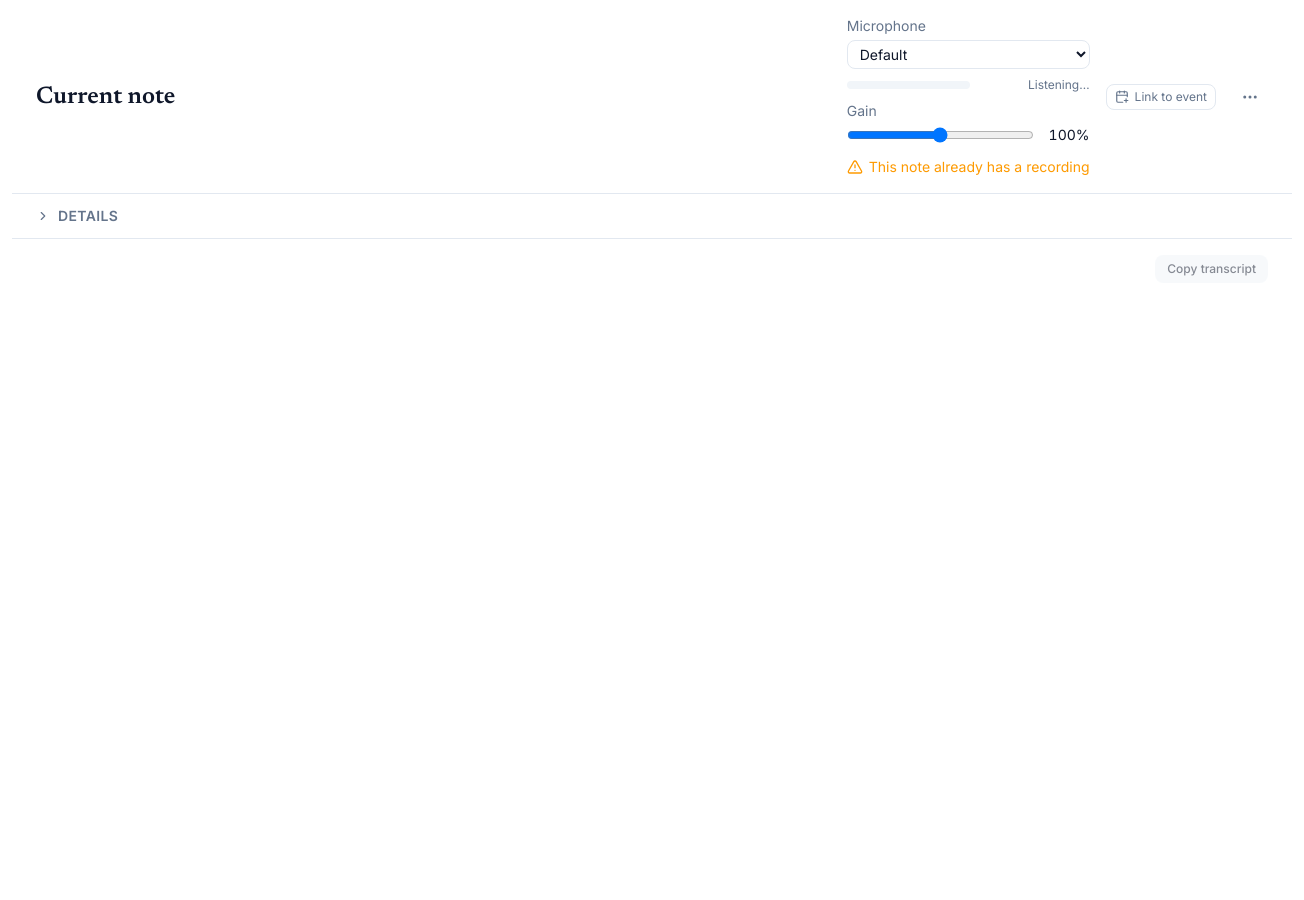
Test case: NoteScreen details disclosure › opening Details reveals all four panels
Click the button "Details".
click(88, 216)  # box 12,194 -> 1292,238
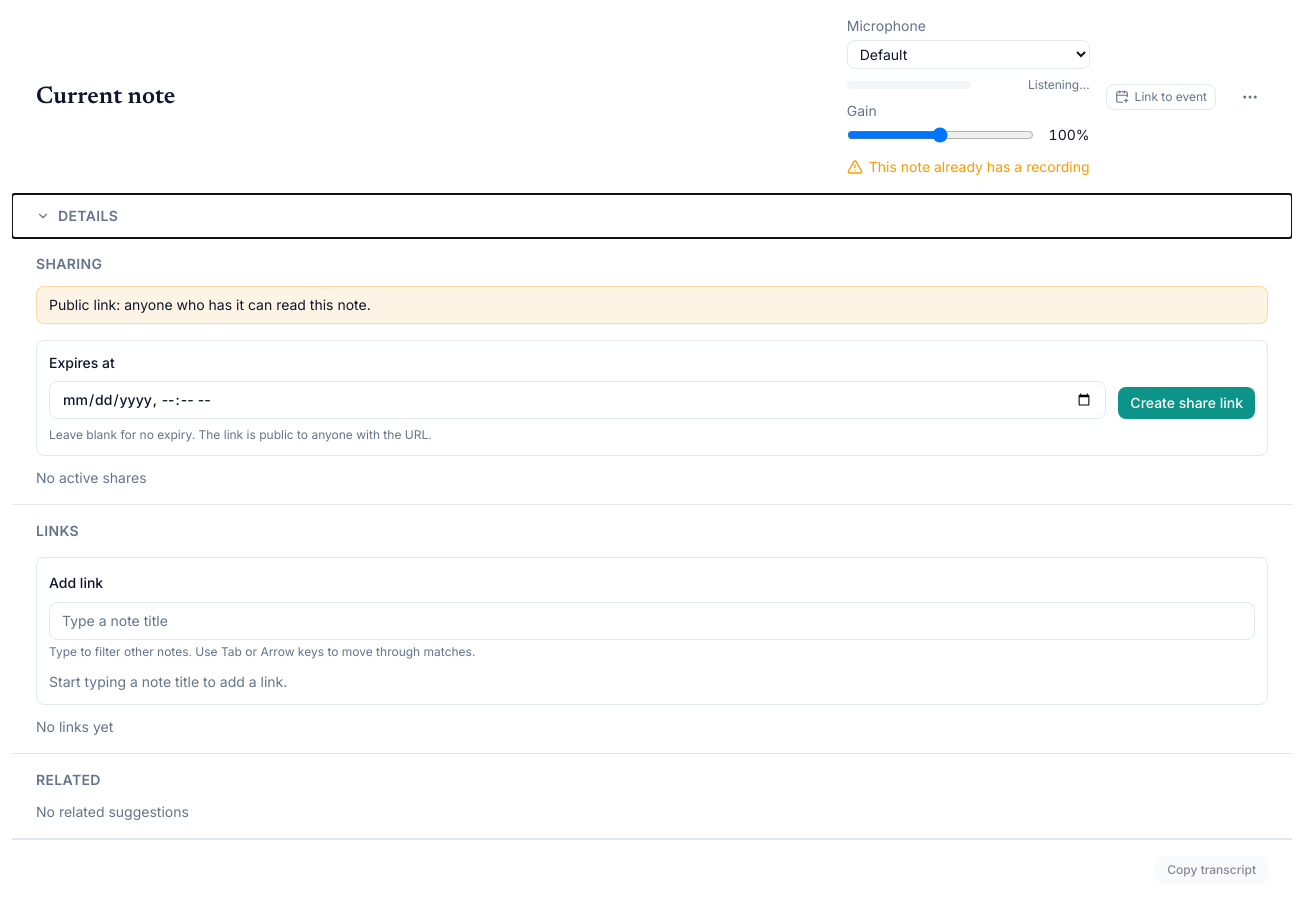
Now the button "Details" is expanded, box 12,194 -> 1292,238
Now the heading "Sharing" is shown, box 36,254 -> 102,274
Now the heading "Links" is shown, box 36,521 -> 79,541
